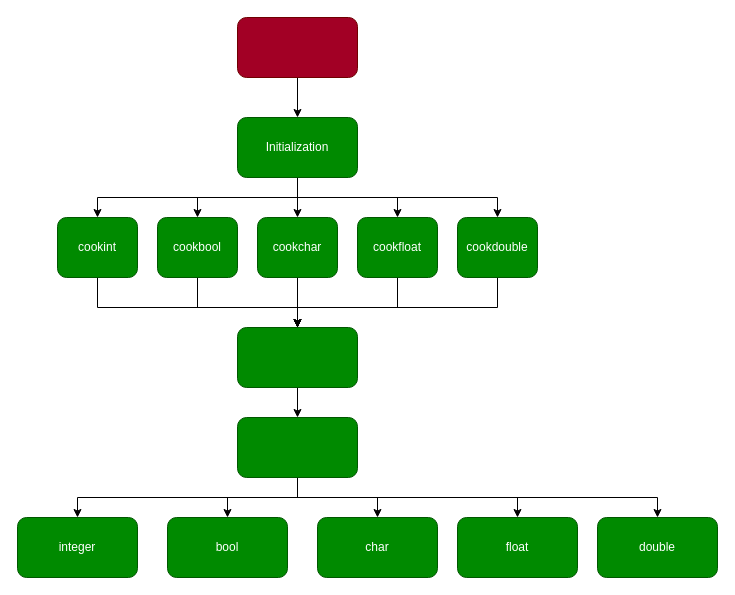
Image size: 735x595. Some labels were removed from this diagram. Each missing label, with the centre of its shape:
"equal" belongs at point (297, 447).
"ID" belongs at point (297, 357).
"Program" belongs at point (297, 47).
